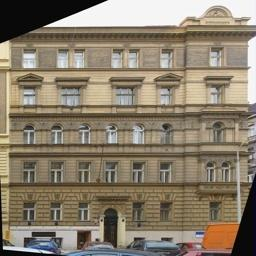building: (0, 0, 253, 256)
